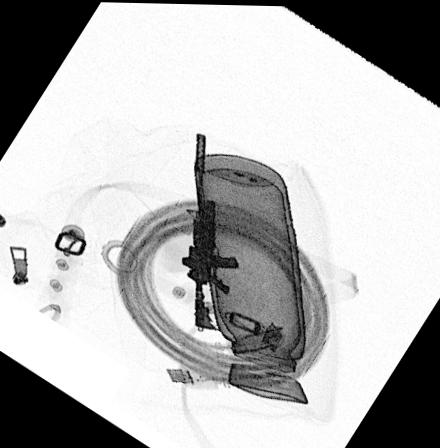Gun: (181, 132, 240, 329)
